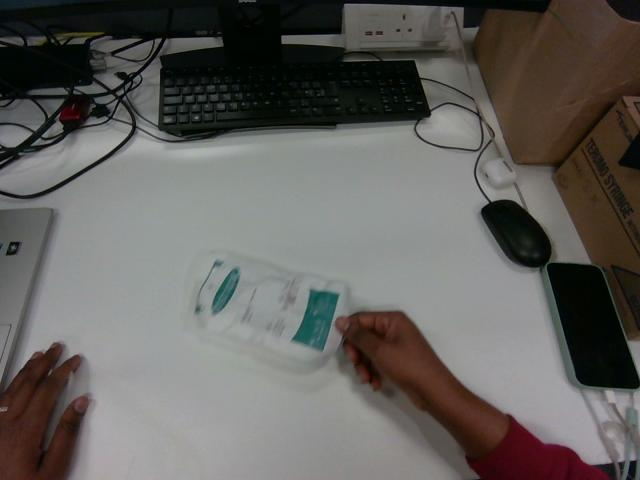gallipot: (188, 252, 348, 368)
